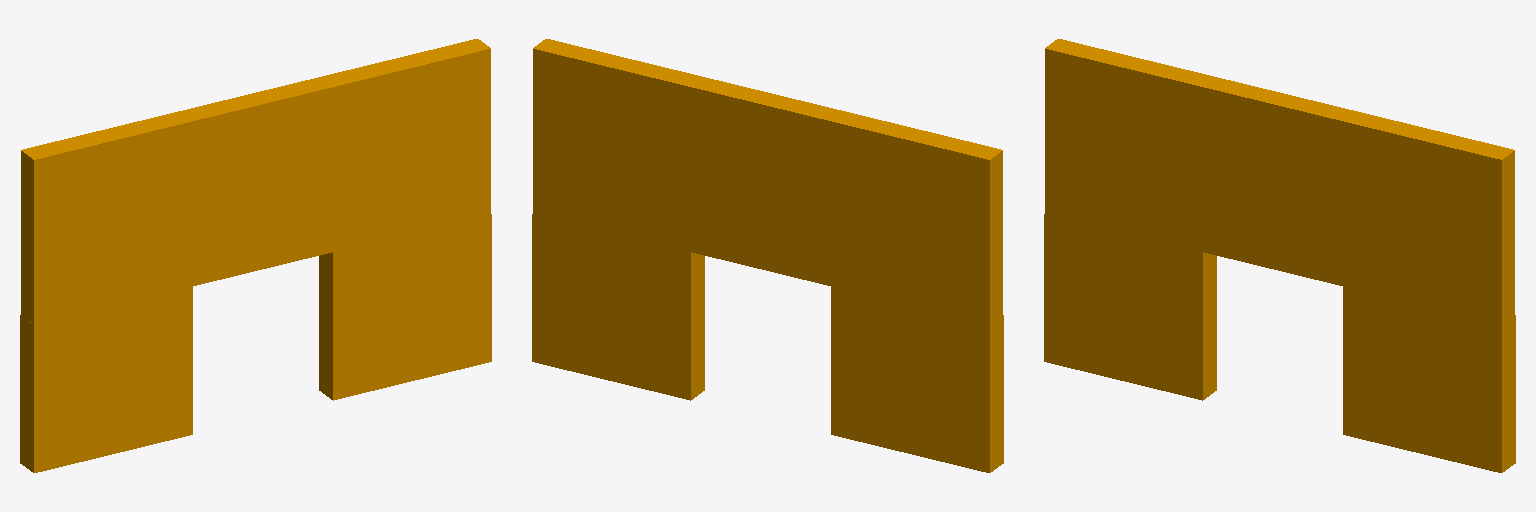
robot.urdf — gate_0_62:
<?xml version="1.0" encoding="UTF-8"?>
<robot name="gate_0_62">
	<link name="base">
		<collision>
			<geometry>
				<mesh filename="../vhacd/gate_0_62_vhacd.obj" scale="1.0 1.0 1.0"/>
			</geometry>
			<origin xyz="0 0 0"/>
			<contact_coefficients mu="0.24" />
		</collision>
		<visual>
			<geometry>
				<mesh filename="../vhacd/gate_0_62_vhacd.obj" scale="1.0 1.0 1.0"/>
			</geometry>
			<origin xyz="0 0 0"/>
		</visual>
		<inertial>
			<mass value="0"/>
			<inertia ixx="0.0" ixy="-0.0" ixz="0.0" iyy="0.0" iyz="0.0" izz="0.0" />
			<origin xyz="1.0000000051243567 0.05000000074505807 0.714320951137276"/>
		</inertial>
	</link>
</robot>

--- Facts derived from the render (not from the file) ---
Views: 3 orthographic renders of the robot side by side, from view 1: azimuth 30°, elevation 25°; view 2: azimuth 150°, elevation 25°; view 3: azimuth 330°, elevation 25°.
Model gate_0_62 with 1 links and 0 joints (none), rooted at base, posed all joints at 0.
Visible links, largest first — view 1: base; view 2: base; view 3: base.
Link boxes in pixels (x1,y1,x2,y2): base: [20, 39, 491, 472]; base: [532, 39, 1003, 472]; base: [1044, 39, 1515, 472].
Bounding box of the posed robot: 2 × 0.104 × 1.31 m (x, y, z).
Meshes: 1 distinct files referenced, 1 mesh visuals loaded (1 OBJ).